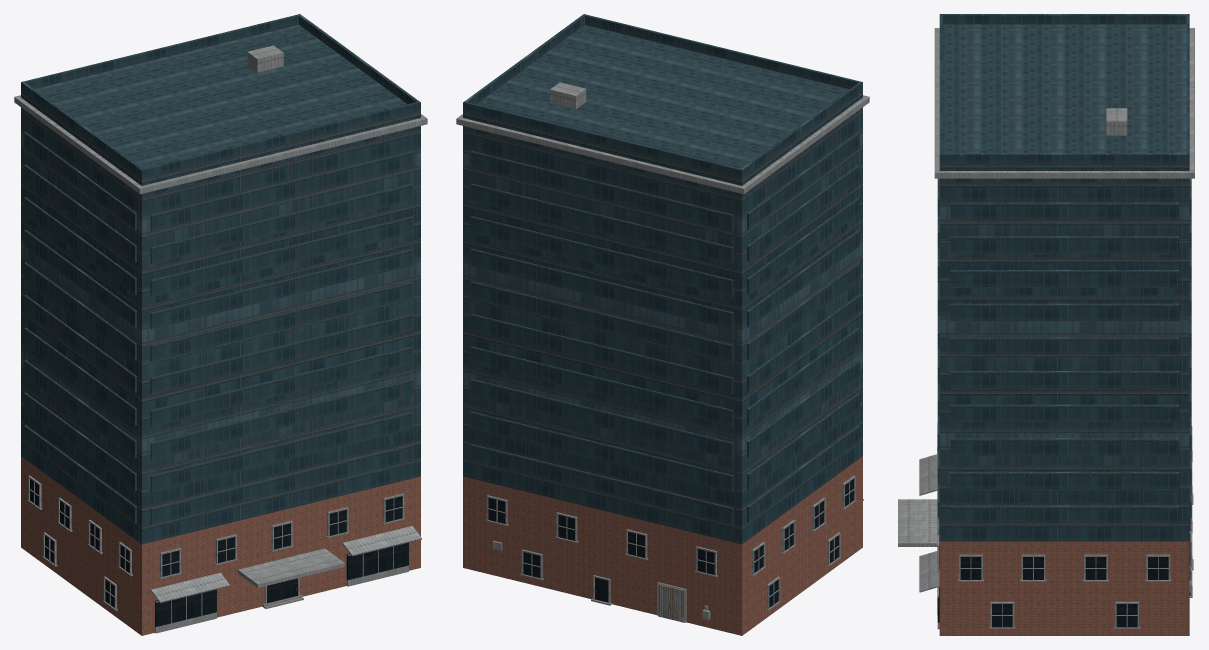
Rendered from eastern-market-flats_lod0.gltf.
3 views of the same model, side by side, from view 1: azimuth 30°, elevation 25°; view 2: azimuth 150°, elevation 25°; view 3: azimuth 270°, elevation 25° (orthographic). The views are drawn at different scales.
Visible parts, largest first — view 1: eastern-market-flats_upper, eastern-market-flats_fen_07-glass-curtain-blue_0, eastern-market-flats_base, eastern-market-flats_fen_07-glass-curtain-blue_2_t, eastern-market-flats_fen_14-steel-panel_1, eastern-market-flats__cornice, eastern-market-flats__parapet_front, eastern-market-flats__parapet_back, eastern-market-flats__canopy, eastern-market-flats__parapet_left, eastern-market-flats__parapet_right, eastern-market-flats__stall_a (+2 smaller); view 2: eastern-market-flats_upper, eastern-market-flats_fen_07-glass-curtain-blue_0, eastern-market-flats_base, eastern-market-flats__cornice, eastern-market-flats_fen_14-steel-panel_1, eastern-market-flats_fen_07-glass-curtain-blue_2_t, eastern-market-flats__parapet_back, eastern-market-flats__parapet_front, eastern-market-flats__parapet_left, eastern-market-flats__parapet_right, eastern-market-flats_fen_21-corrugated-steel_6, eastern-market-flats__hvac; view 3: eastern-market-flats_upper, eastern-market-flats_fen_07-glass-curtain-blue_0, eastern-market-flats_base, eastern-market-flats__cornice, eastern-market-flats_fen_07-glass-curtain-blue_2_t, eastern-market-flats__parapet_right, eastern-market-flats__parapet_left, eastern-market-flats_fen_14-steel-panel_1, eastern-market-flats__canopy, eastern-market-flats__stall_b, eastern-market-flats__stall_a, eastern-market-flats__hvac (+2 smaller).
Part boxes in pixels (bbox=[...]): eastern-market-flats_upper: bbox=[21, 25, 420, 544]; eastern-market-flats_fen_07-glass-curtain-blue_0: bbox=[24, 132, 413, 524]; eastern-market-flats_base: bbox=[21, 456, 420, 635]; eastern-market-flats_fen_07-glass-curtain-blue_2_t: bbox=[30, 479, 408, 626]; eastern-market-flats_fen_14-steel-panel_1: bbox=[27, 475, 408, 633]; eastern-market-flats__cornice: bbox=[14, 95, 427, 194]; eastern-market-flats__parapet_front: bbox=[140, 101, 420, 179]; eastern-market-flats__parapet_back: bbox=[21, 14, 300, 91]; eastern-market-flats__canopy: bbox=[237, 548, 344, 587]; eastern-market-flats__parapet_left: bbox=[22, 82, 142, 177]; eastern-market-flats__parapet_right: bbox=[299, 15, 418, 104]; eastern-market-flats__stall_a: bbox=[150, 572, 230, 603]; eastern-market-flats_upper: bbox=[463, 25, 862, 544]; eastern-market-flats_fen_07-glass-curtain-blue_0: bbox=[470, 132, 859, 524]; eastern-market-flats_base: bbox=[463, 456, 862, 635]; eastern-market-flats__cornice: bbox=[456, 95, 869, 194]; eastern-market-flats_fen_14-steel-panel_1: bbox=[485, 475, 856, 622]; eastern-market-flats_fen_07-glass-curtain-blue_2_t: bbox=[488, 479, 853, 607]; eastern-market-flats__parapet_back: bbox=[463, 101, 743, 179]; eastern-market-flats__parapet_front: bbox=[583, 14, 862, 91]; eastern-market-flats__parapet_left: bbox=[741, 82, 861, 177]; eastern-market-flats__parapet_right: bbox=[465, 15, 584, 104]; eastern-market-flats_fen_21-corrugated-steel_6: bbox=[658, 584, 684, 622]; eastern-market-flats__hvac: bbox=[550, 82, 586, 109]; eastern-market-flats_upper: bbox=[939, 24, 1189, 541]; eastern-market-flats_fen_07-glass-curtain-blue_0: bbox=[937, 178, 1191, 523]; eastern-market-flats_base: bbox=[939, 541, 1189, 635]; eastern-market-flats__cornice: bbox=[934, 28, 1194, 178]; eastern-market-flats_fen_07-glass-curtain-blue_2_t: bbox=[937, 518, 1190, 627]; eastern-market-flats__parapet_right: bbox=[943, 153, 1186, 164]; eastern-market-flats__parapet_left: bbox=[943, 14, 1186, 24]; eastern-market-flats_fen_14-steel-panel_1: bbox=[937, 423, 1193, 629]; eastern-market-flats__canopy: bbox=[898, 499, 937, 546]; eastern-market-flats__stall_b: bbox=[919, 551, 939, 592]; eastern-market-flats__stall_a: bbox=[919, 454, 937, 495]; eastern-market-flats__hvac: bbox=[1106, 108, 1127, 135].
Size of the model in its own units: 33 by 51.5 by 28.5.
